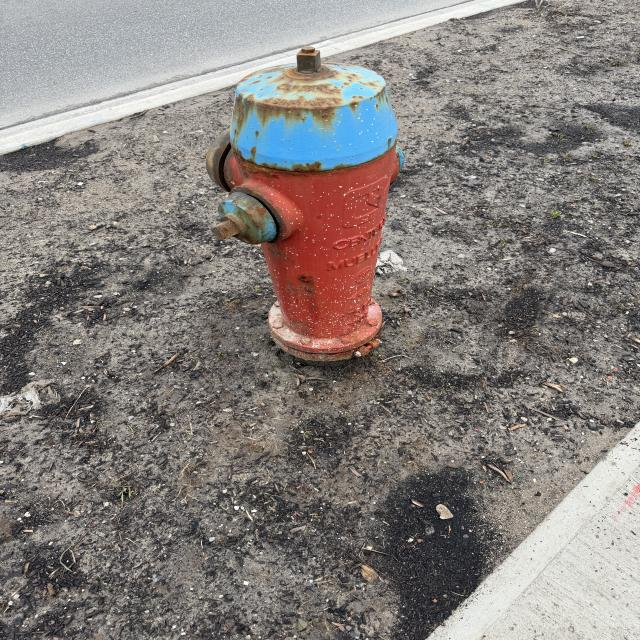Fire hydrant: (204, 46, 407, 363)
